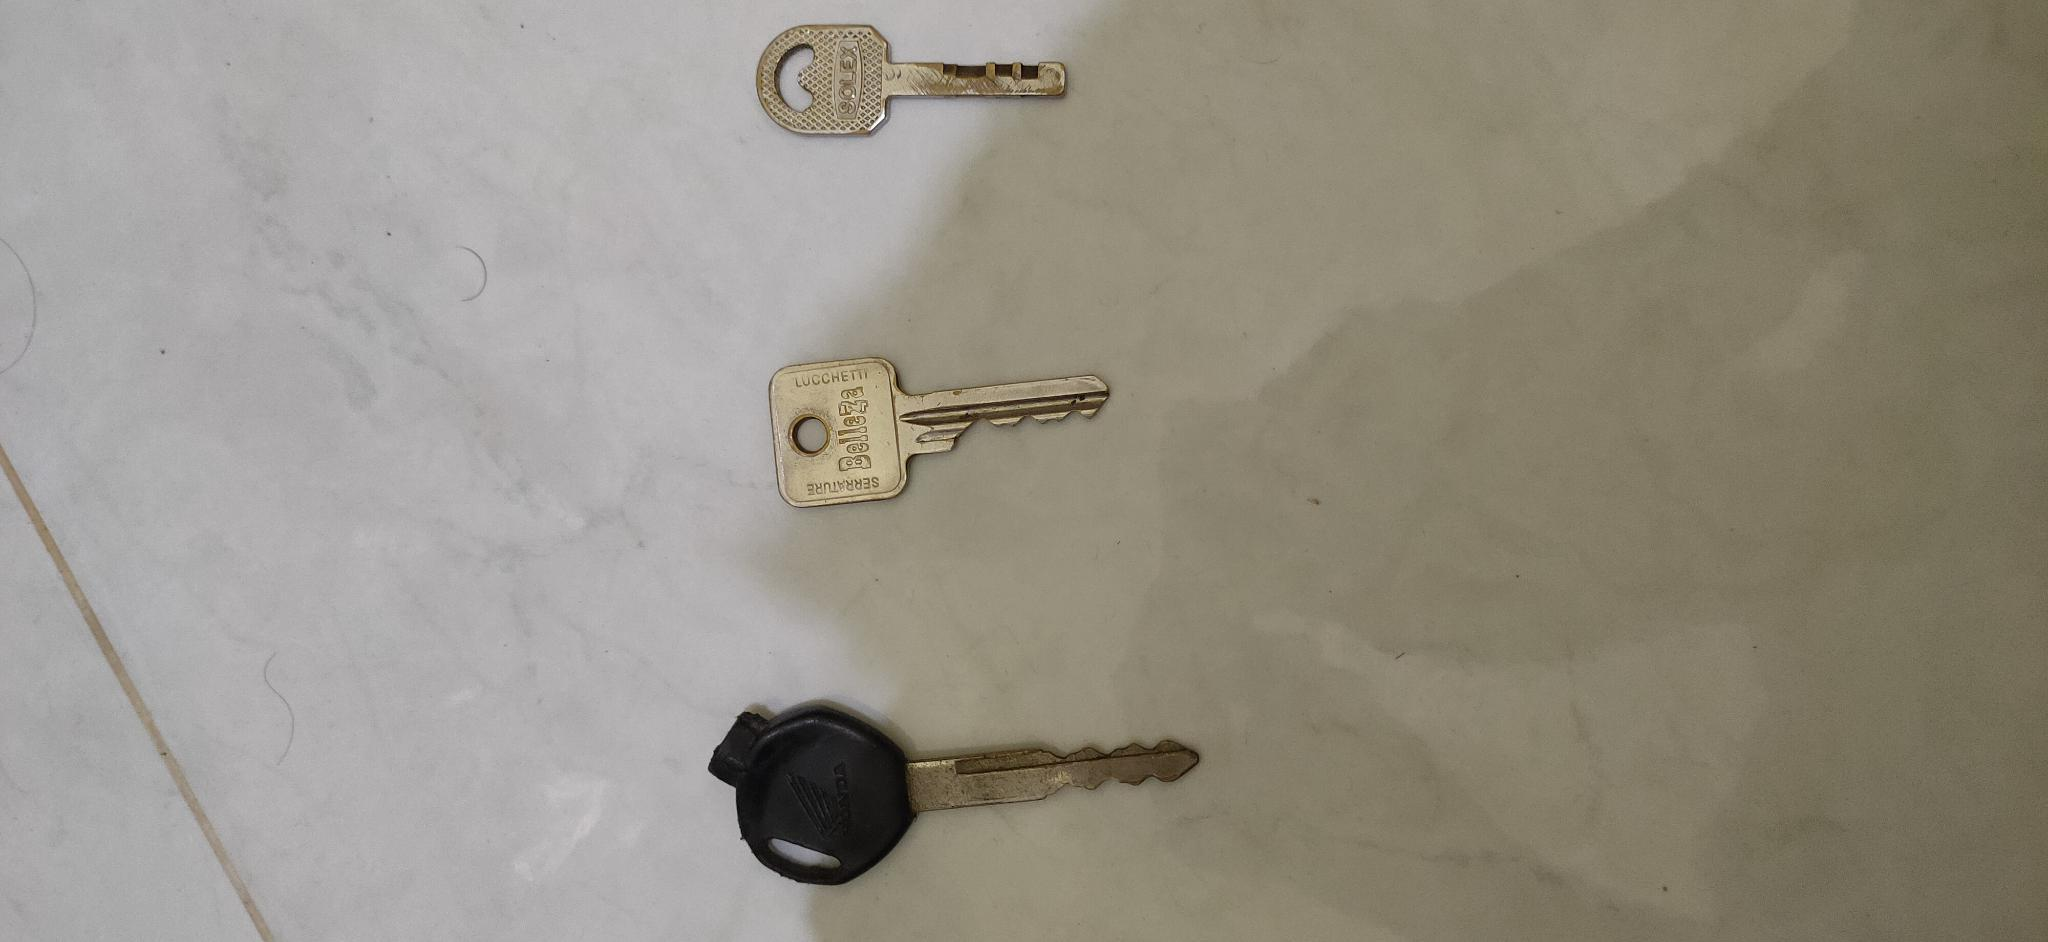keys: (705, 694, 1202, 891), (763, 350, 1117, 517), (754, 16, 1078, 148)
